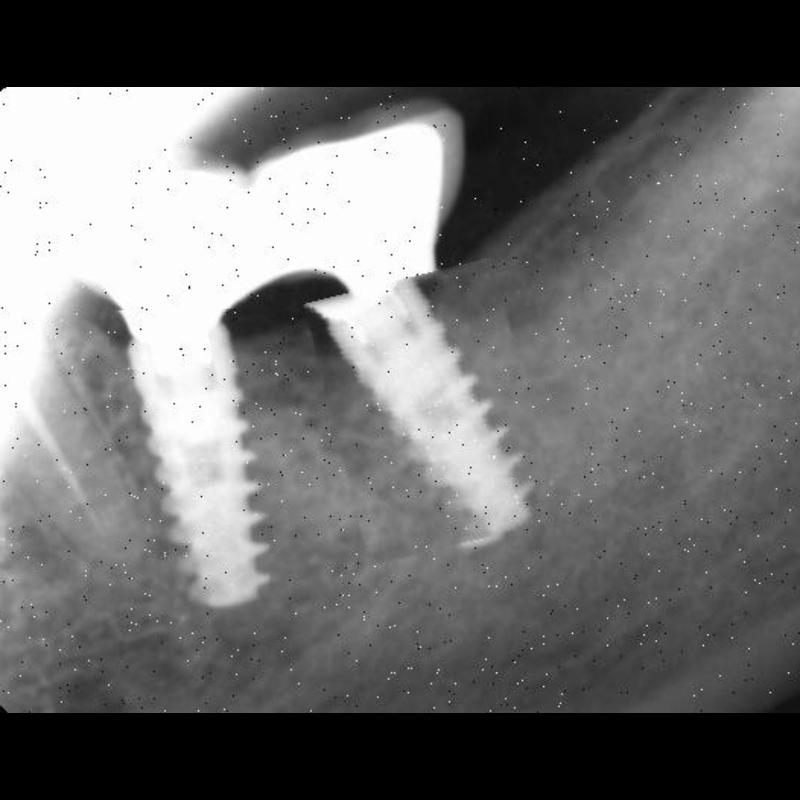ADIN: (319, 266, 542, 556), (112, 309, 270, 601)
